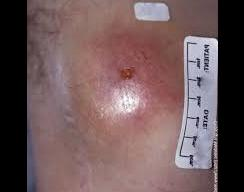Stage2: (63, 21, 175, 133)
